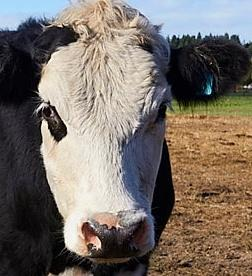muzzles: (60, 206, 158, 265)
